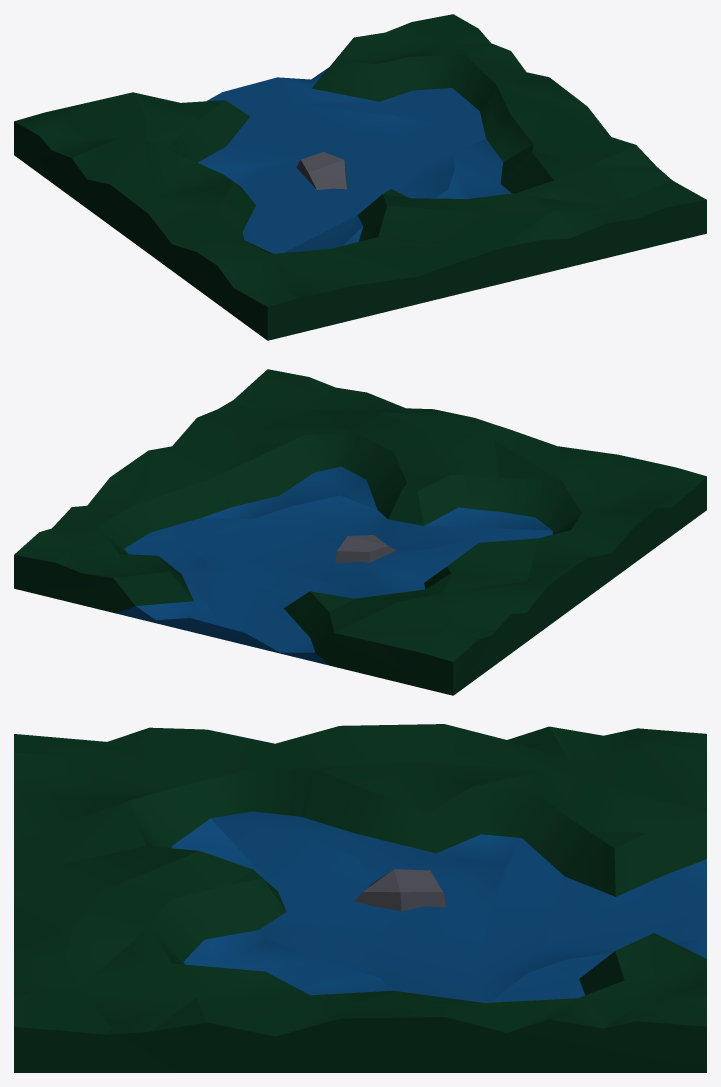
File: Water_River_Ending_B.fbx
3 views of the same model, one above another, from view 1: azimuth 30°, elevation 25°; view 2: azimuth 150°, elevation 25°; view 3: azimuth 270°, elevation 25° (orthographic). The views are drawn at different scales.
Visible parts, largest first — view 1: Water_River_Ending_B; view 2: Water_River_Ending_B; view 3: Water_River_Ending_B.
Boxes of the visible parts, x1,y1,x2,y2 form: Water_River_Ending_B: (14, 14, 706, 340); Water_River_Ending_B: (14, 369, 706, 695); Water_River_Ending_B: (14, 724, 706, 1072).
Size of the model in its own units: 147 by 14.26 by 147.
